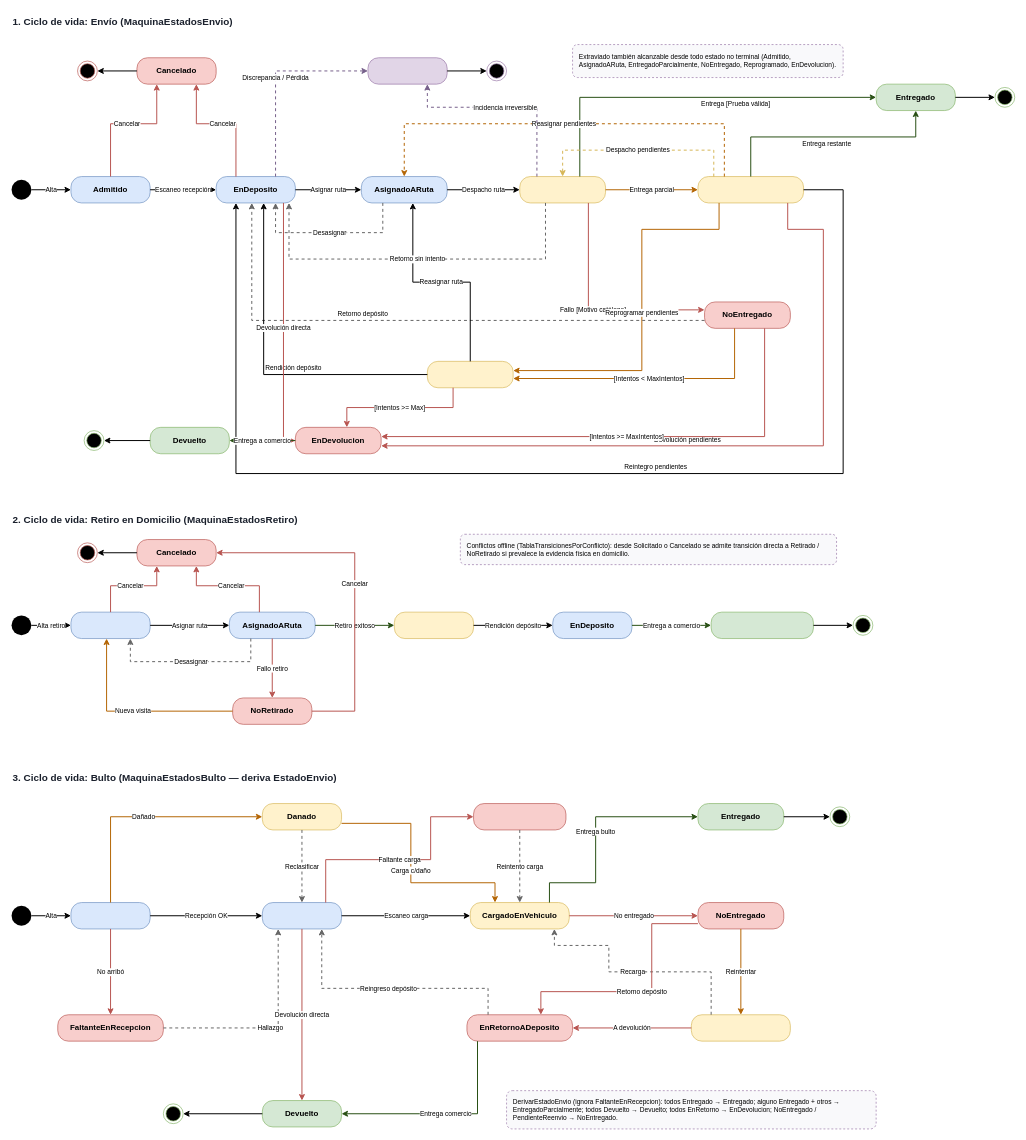
Image size: 1026x1140. Some labels were removed from this diagram. The shapes that lost their labels are listed below. From the top down, each one's centre as x and y in pixels, then its label:
At (407,70): "Extraviado".
At (562,189): "EnTransito".
At (750,189): "EntregadoParcialmente".
At (470,374): "Reprogramado".
At (110,625): "Solicitado".
At (434,625): "Retirado".
At (761,625): "EntregadoAlComercio".
At (519,816): "FaltanteEnCarga".
At (110,915): "Ingresado".
At (302,915): "Recibido".
At (740,1027): "PendienteReenvio".
